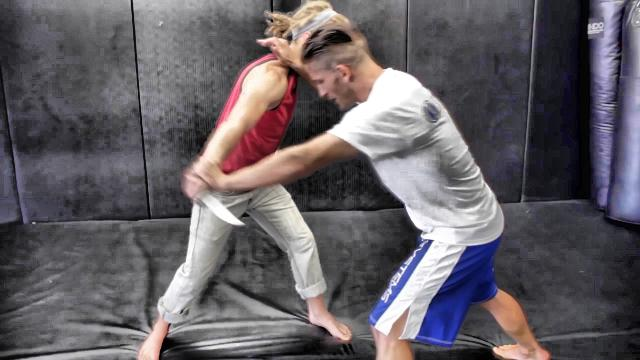knife: (178, 178, 250, 232)
